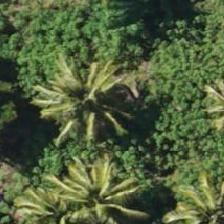coconut_tree: (39, 56, 129, 146), (52, 152, 142, 223), (6, 172, 96, 223), (167, 176, 223, 223)
